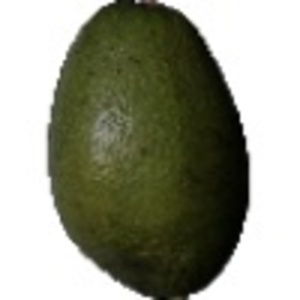abacate: (43, 1, 250, 298)
